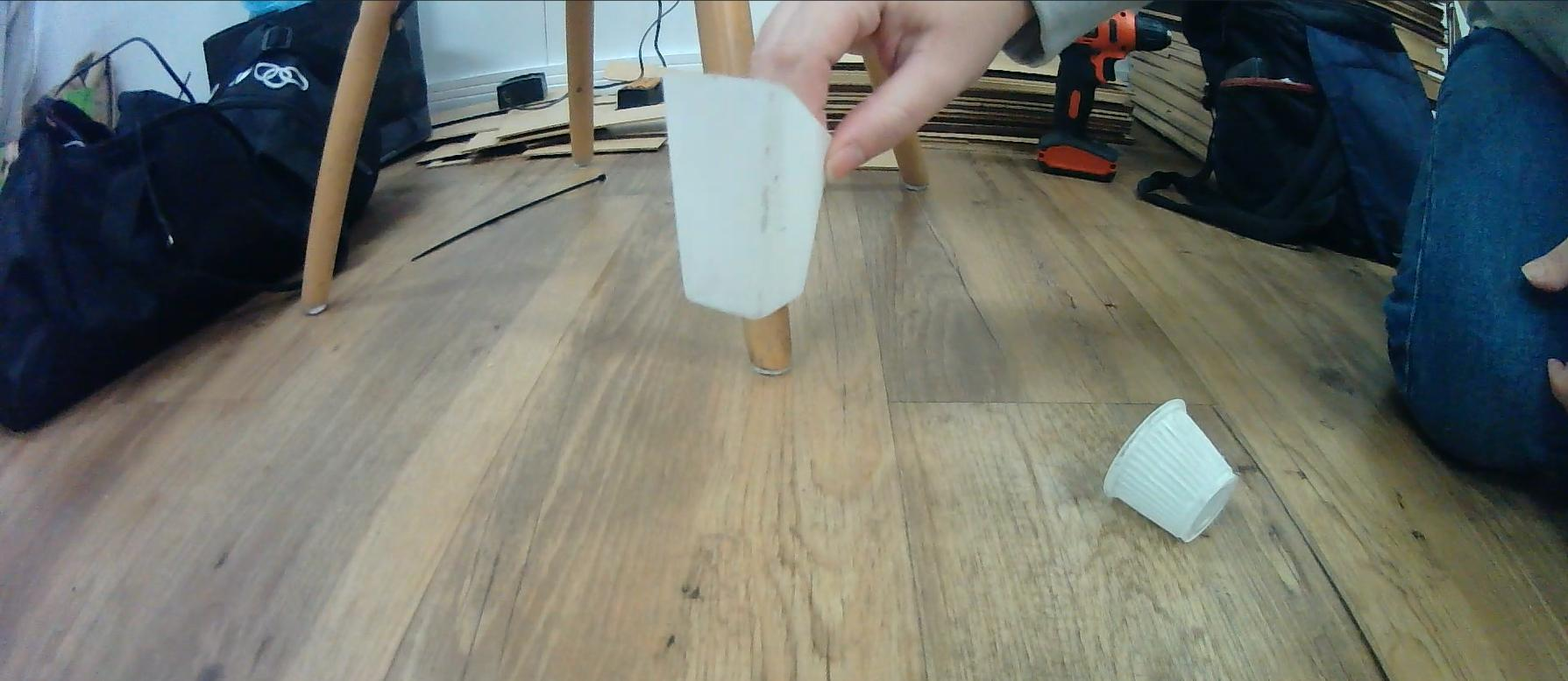erva_daninha: (660, 72, 830, 321)
planta: (1102, 397, 1241, 544)
